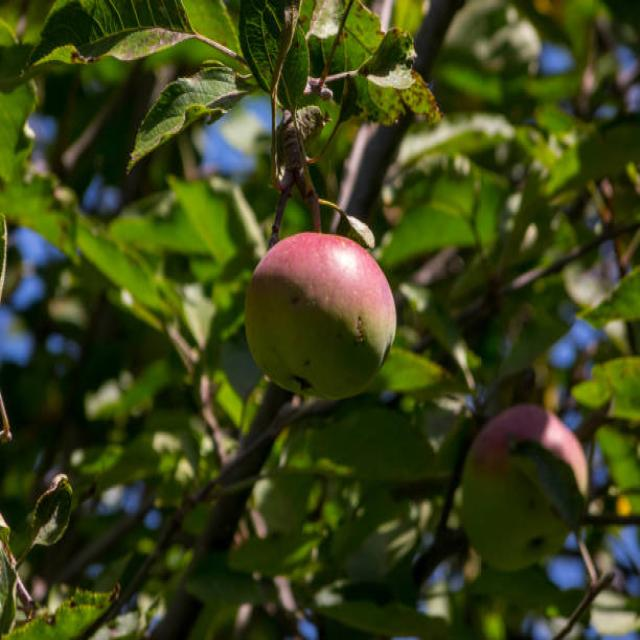Unripe: (247, 235, 397, 396), (461, 403, 585, 570)
